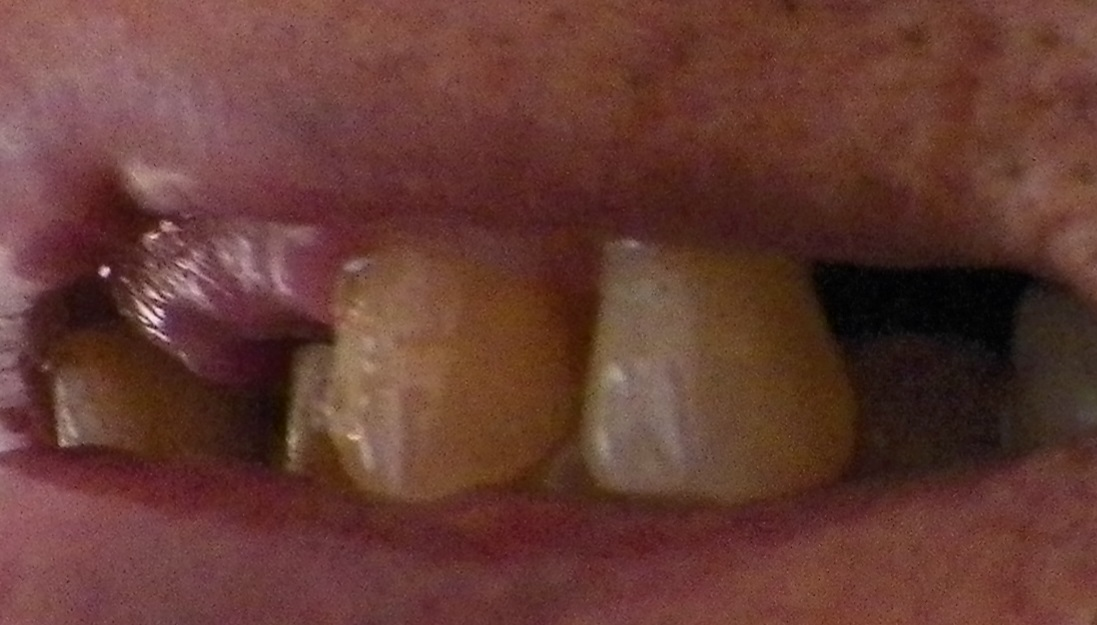boca: (45, 240, 1094, 498)
